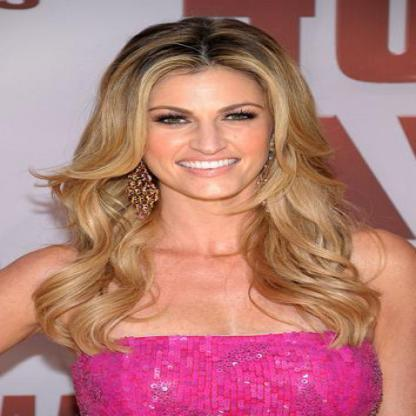long-hair: (47, 210, 365, 258)
